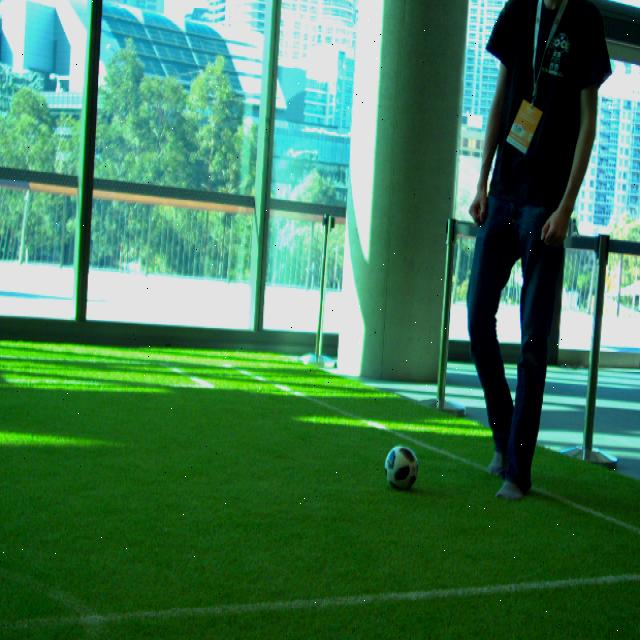ball: (385, 446, 420, 491)
